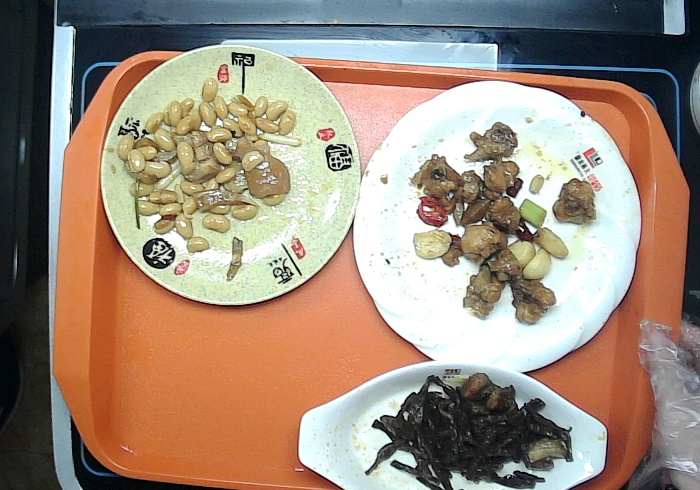NLDX-Bai_Zhe_Yuan_Pan: (352, 78, 643, 373)
NLDX-Fu_Zi_Yuan_Pan: (99, 42, 364, 307)
NLDX-Yu_Pan: (296, 358, 609, 490)
